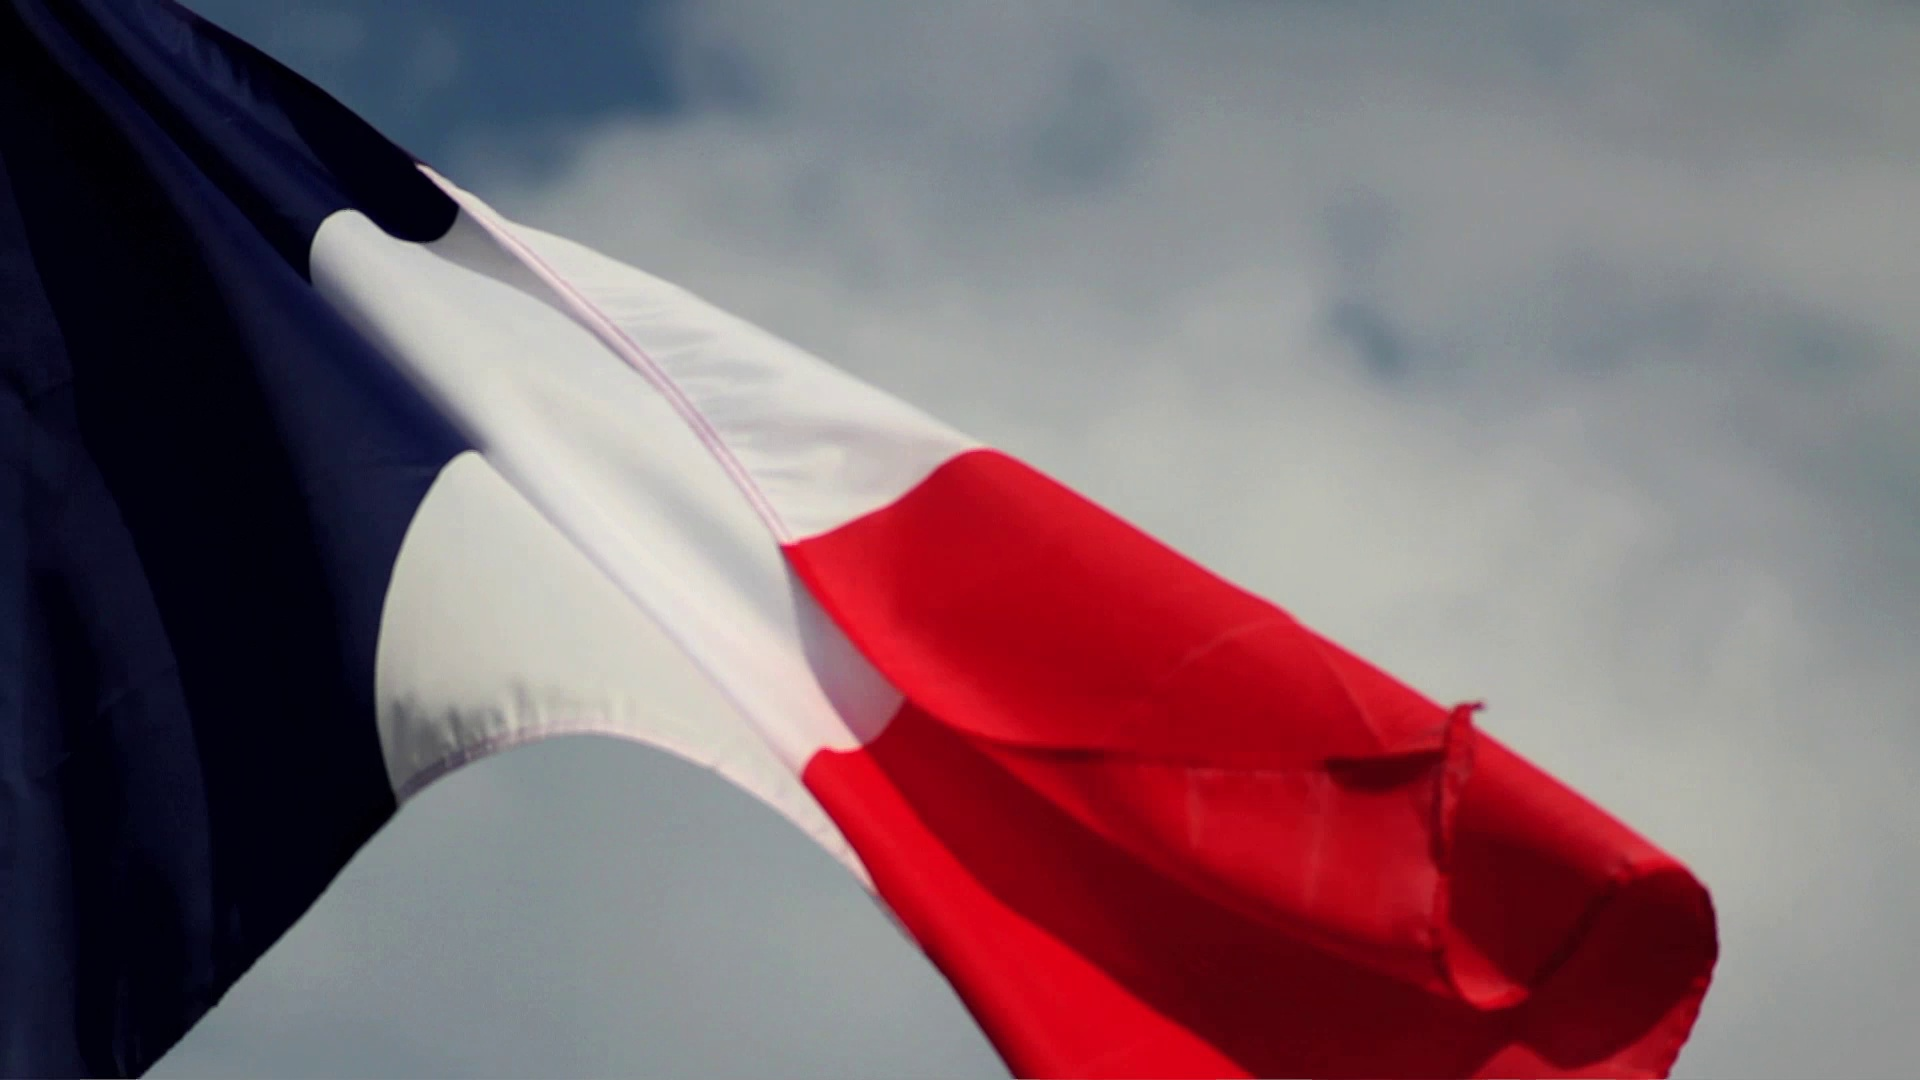French Flag: (1, 1, 1713, 1080)
